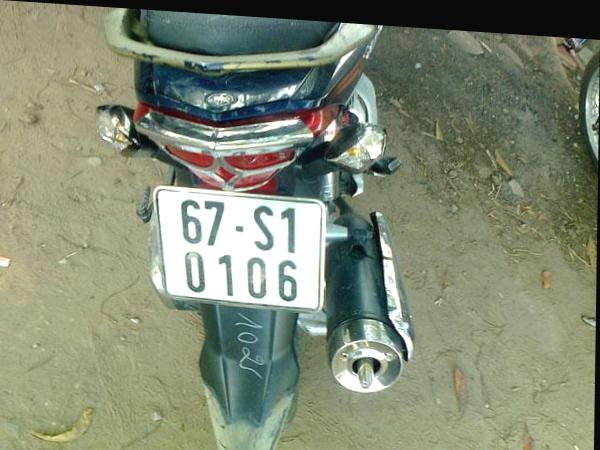License_Plate: (153, 185, 332, 310)
